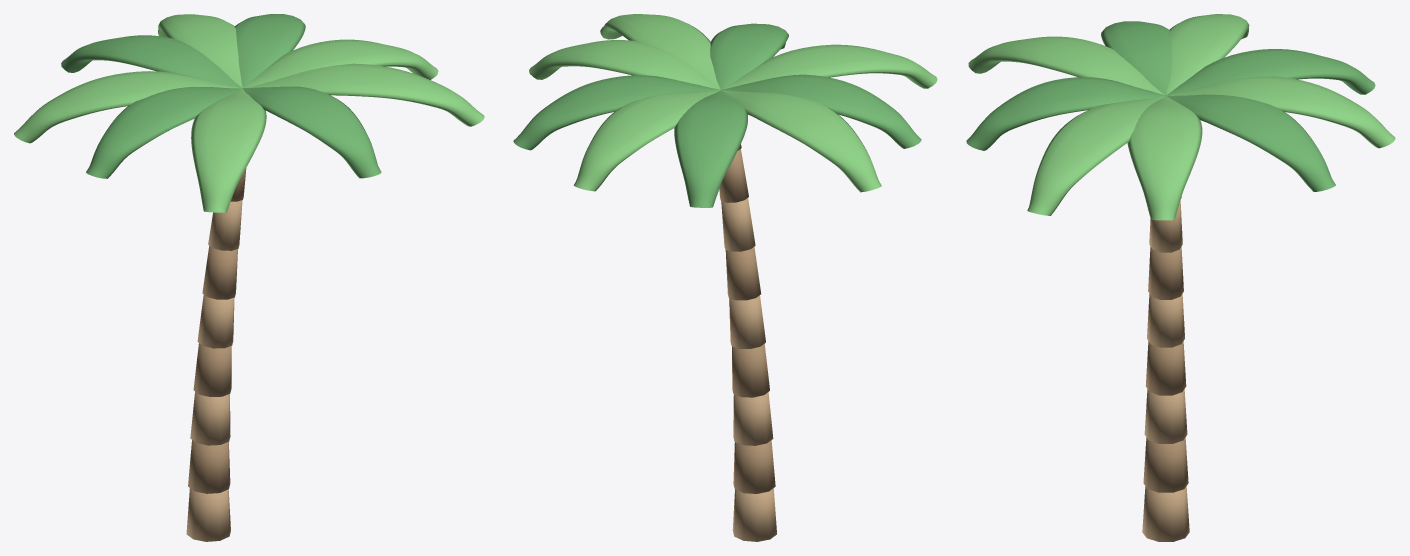
File: Palmera.fbx
3 renders of one model, left to right at view 1: azimuth 30°, elevation 25°; view 2: azimuth 150°, elevation 25°; view 3: azimuth 270°, elevation 25°, orthographic. The views are drawn at different scales.
Visible parts, largest first — view 1: Palmera; view 2: Palmera; view 3: Palmera.
Boxes of the visible parts, x1=… form: Palmera: x1=14, y1=14, x2=484, y2=541; Palmera: x1=513, y1=14, x2=937, y2=541; Palmera: x1=966, y1=14, x2=1395, y2=541.
Size of the model in its own units: 6.26 by 7 by 5.79.
